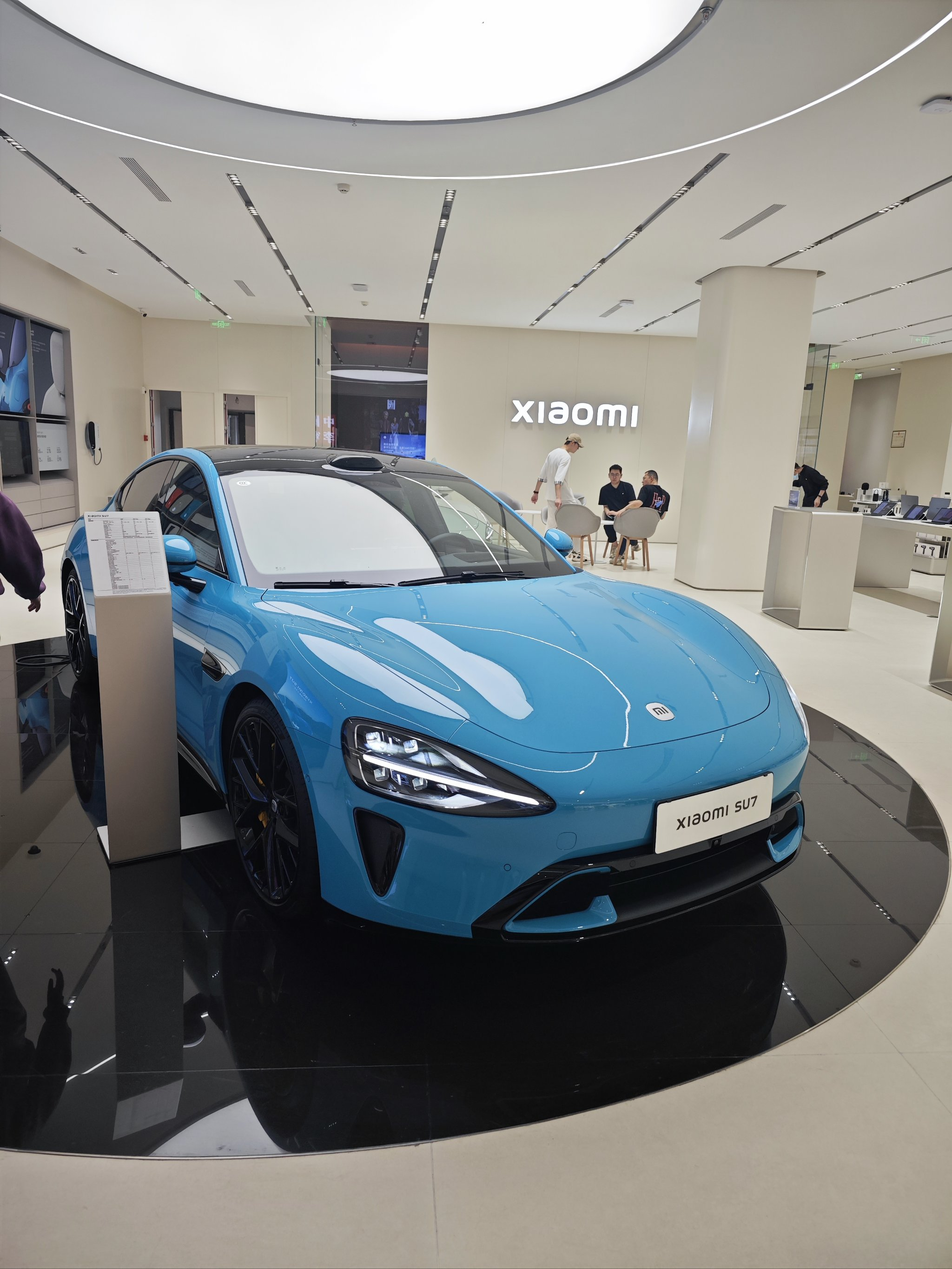su7: (63, 441, 805, 945)
